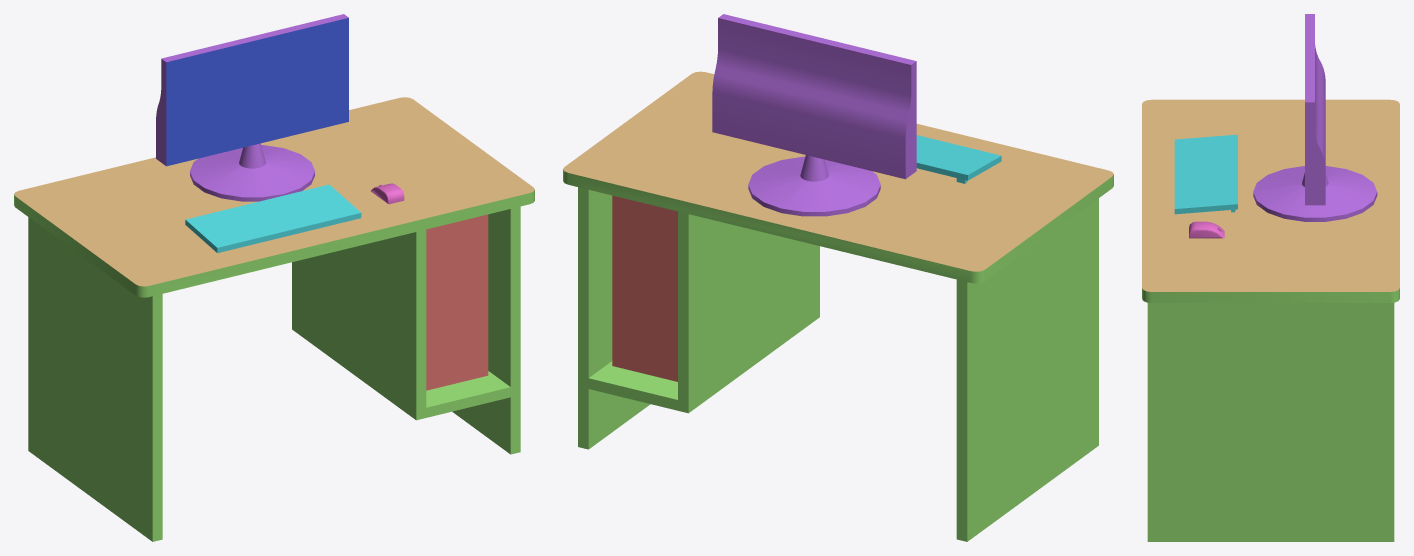
The model's file is ShoppingPC.fbx.
The picture shows the model from 3 angles, left to right: view 1: azimuth 30°, elevation 25°; view 2: azimuth 150°, elevation 25°; view 3: azimuth 270°, elevation 25°; orthographic projection. The views are drawn at different scales.
Parts seen in each view (by area): view 1: Table_Export, Monitor_Export, PC_Export, Keyboard_Export; view 2: Table_Export, Monitor_Export, PC_Export, Keyboard_Export; view 3: Table_Export, Monitor_Export, Keyboard_Export, Mouse_Export.
Boxes of the visible parts, box(x1,y1,x2,y2) form: Table_Export: box(14, 97, 534, 541); Monitor_Export: box(156, 14, 348, 201); PC_Export: box(426, 214, 488, 390); Keyboard_Export: box(185, 184, 361, 252); Table_Export: box(563, 71, 1113, 541); Monitor_Export: box(712, 14, 916, 216); PC_Export: box(612, 195, 677, 381); Keyboard_Export: box(916, 135, 1001, 183); Table_Export: box(1142, 99, 1399, 541); Monitor_Export: box(1253, 14, 1377, 221); Keyboard_Export: box(1174, 134, 1237, 214); Mouse_Export: box(1189, 221, 1224, 238).
Size of the model in its own units: 120 by 115 by 67.95.
